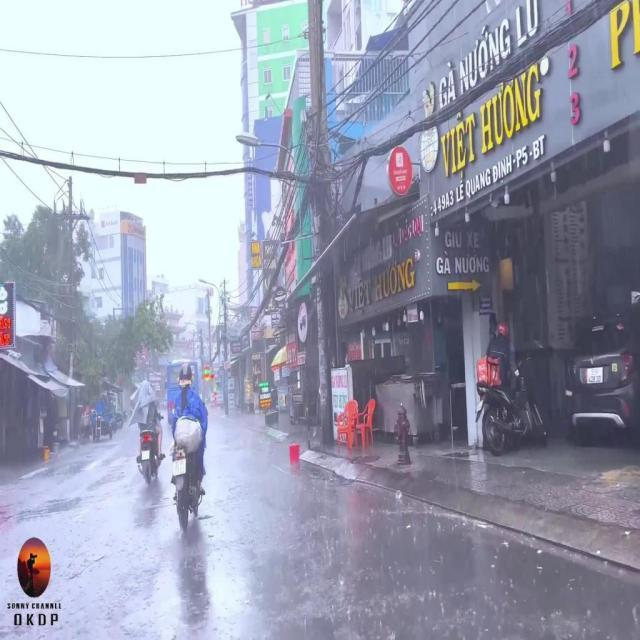106-cam-oto-tai: (296, 301, 308, 344)
